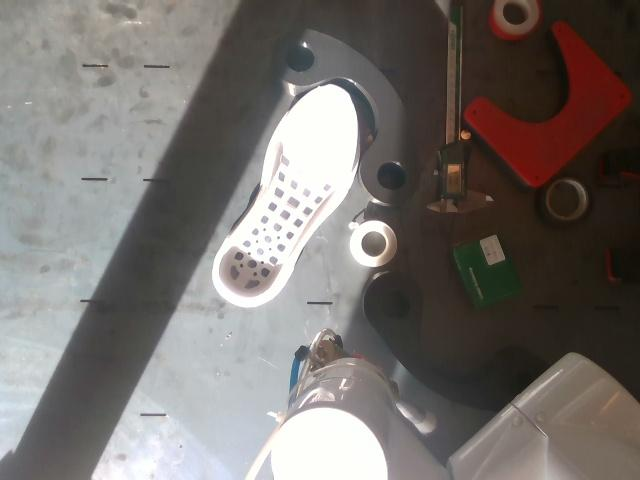shoes: (220, 86, 356, 298)
